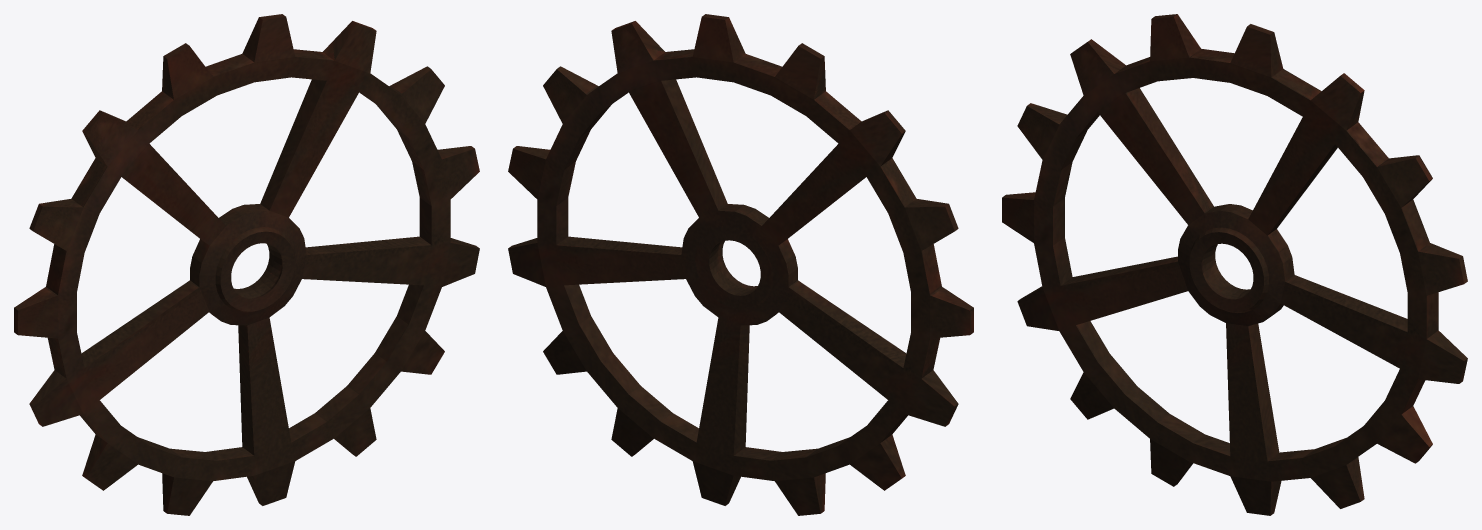
The model's file is gear.fbx.
The picture shows the model from 3 angles, left to right: view 1: azimuth 30°, elevation 25°; view 2: azimuth 150°, elevation 25°; view 3: azimuth 330°, elevation 25°; orthographic projection.
Parts seen in each view (by area): view 1: Gear; view 2: Gear; view 3: Gear.
Boxes of the visible parts, box(x1,y1,x2,y2) form: Gear: box(14, 14, 479, 515); Gear: box(508, 14, 973, 515); Gear: box(1002, 14, 1467, 515).
Bounding box in the file's own units: 4314 × 4338 × 250.
1 material, 1 textured.
